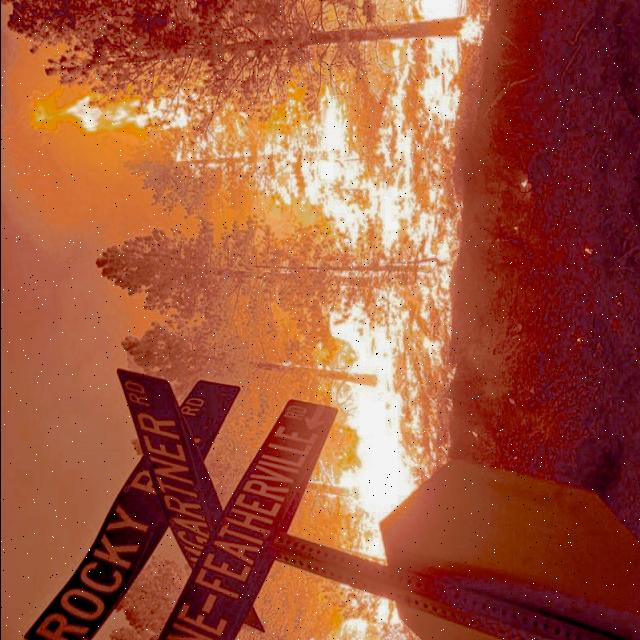api: (164, 76, 470, 268), (324, 277, 429, 640), (17, 66, 202, 159), (390, 1, 492, 137)
